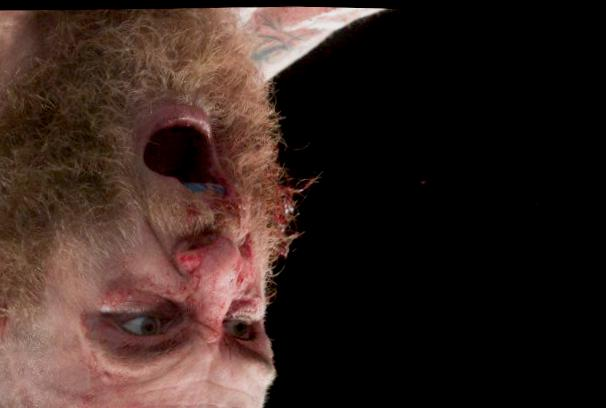Fire: (173, 230, 267, 344), (272, 165, 319, 255), (0, 317, 6, 340)
